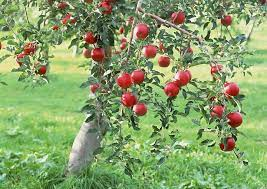Apple: (117, 73, 133, 90), (220, 135, 236, 152), (224, 81, 240, 96), (227, 113, 243, 128), (120, 93, 137, 106), (133, 102, 148, 116), (84, 30, 98, 44), (164, 82, 178, 95), (210, 104, 223, 118), (175, 68, 187, 83), (133, 71, 145, 85), (136, 24, 148, 38), (92, 48, 104, 60), (172, 12, 184, 24), (100, 2, 111, 15), (145, 46, 156, 58), (220, 14, 231, 26), (17, 53, 28, 64), (90, 82, 101, 93), (24, 43, 35, 53), (159, 56, 170, 66), (82, 47, 91, 57), (38, 65, 47, 74), (63, 14, 70, 21), (52, 24, 58, 31), (121, 43, 127, 50), (119, 28, 125, 33), (211, 68, 217, 73), (121, 38, 128, 42)
